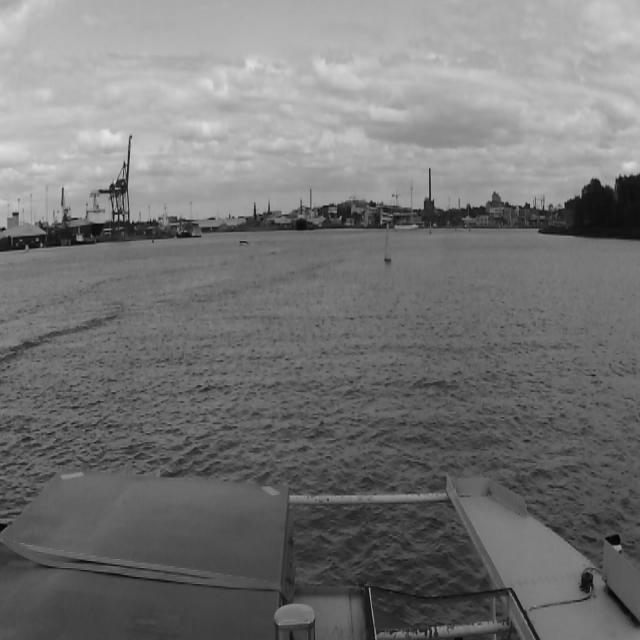buoy: (385, 224, 391, 260), (149, 228, 155, 246)
ship: (61, 202, 111, 237), (296, 199, 308, 229), (237, 236, 250, 246)
